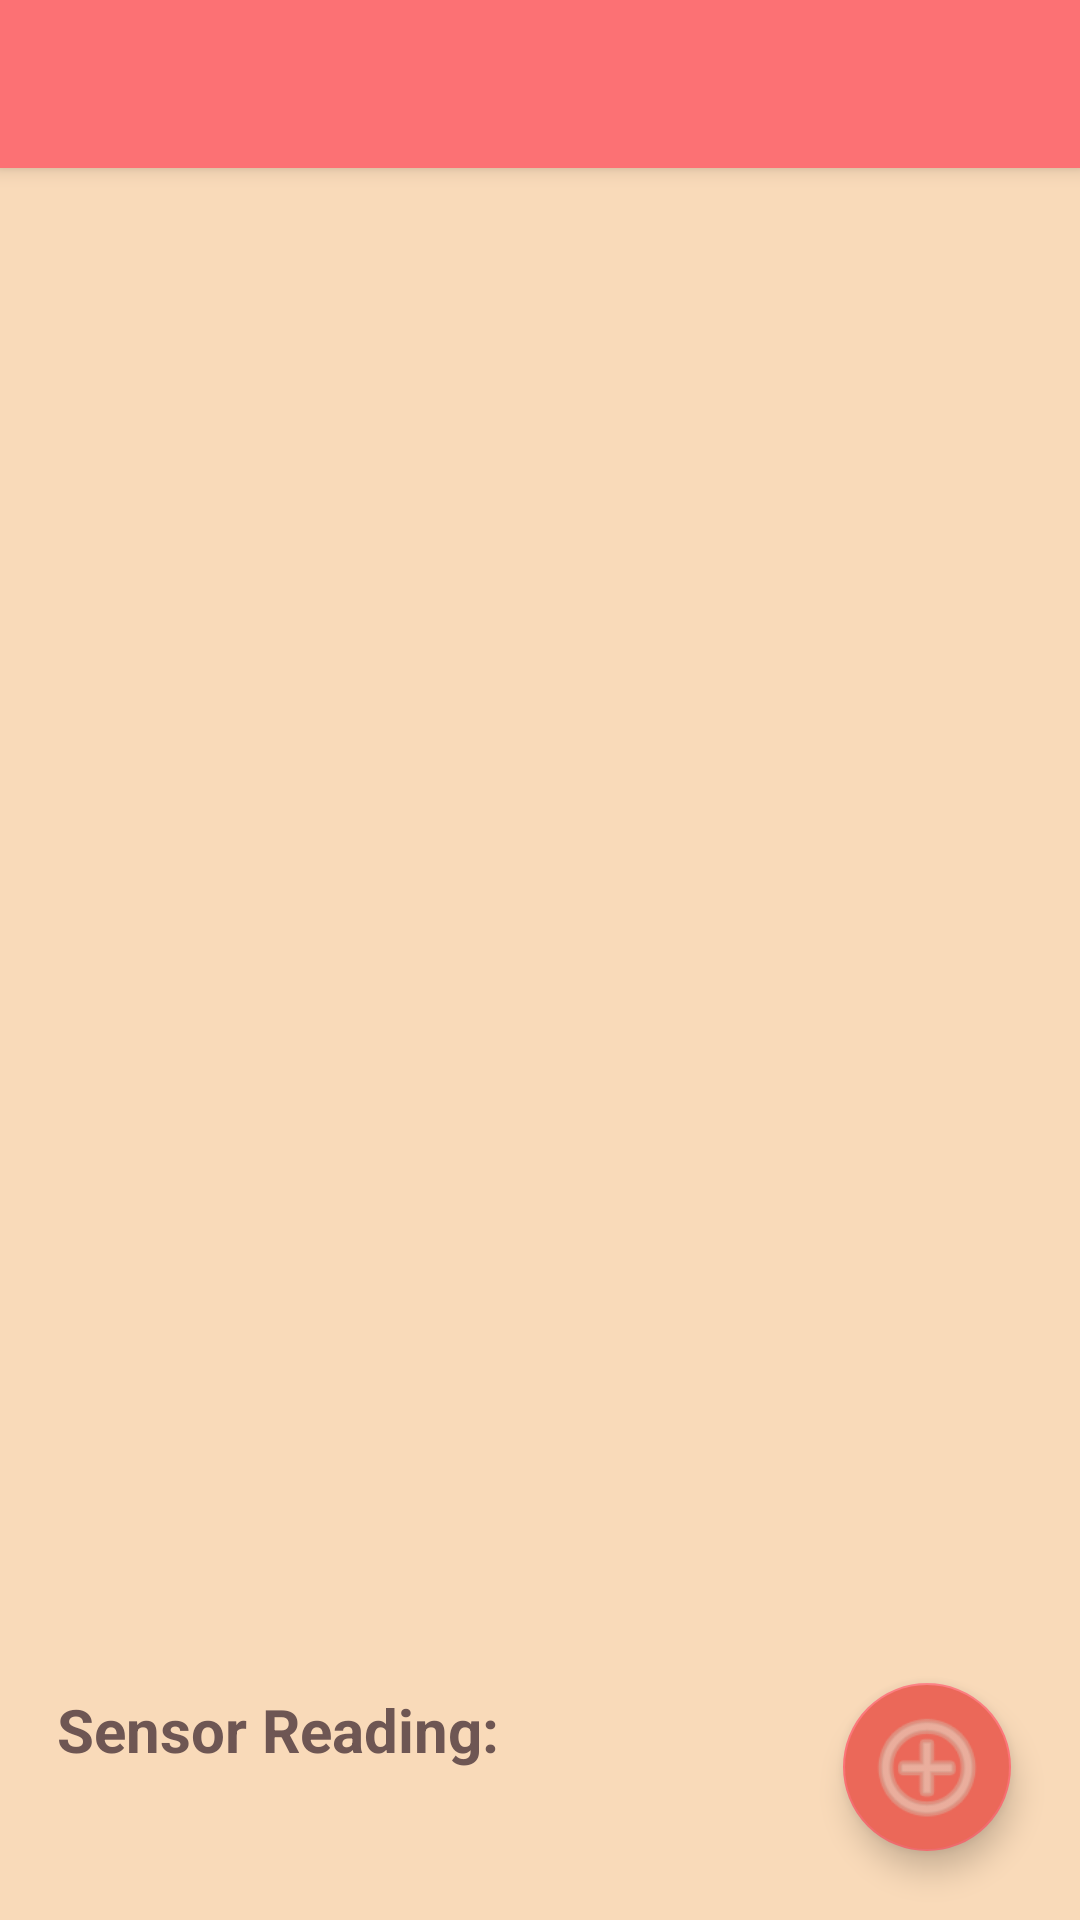

Icon click points for this 1080 × 1920 phone screenshot, format (x=x, y=y):
add: (x=927, y=1767)
